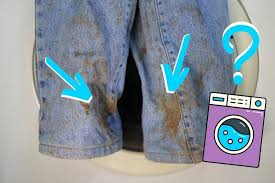earth: (162, 99, 182, 134), (99, 96, 115, 128)
